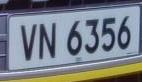3: (83, 15, 103, 58)
5: (99, 14, 118, 57)
6: (65, 15, 85, 62), (116, 12, 133, 51)
N: (39, 18, 60, 65)
V: (18, 21, 39, 65)
